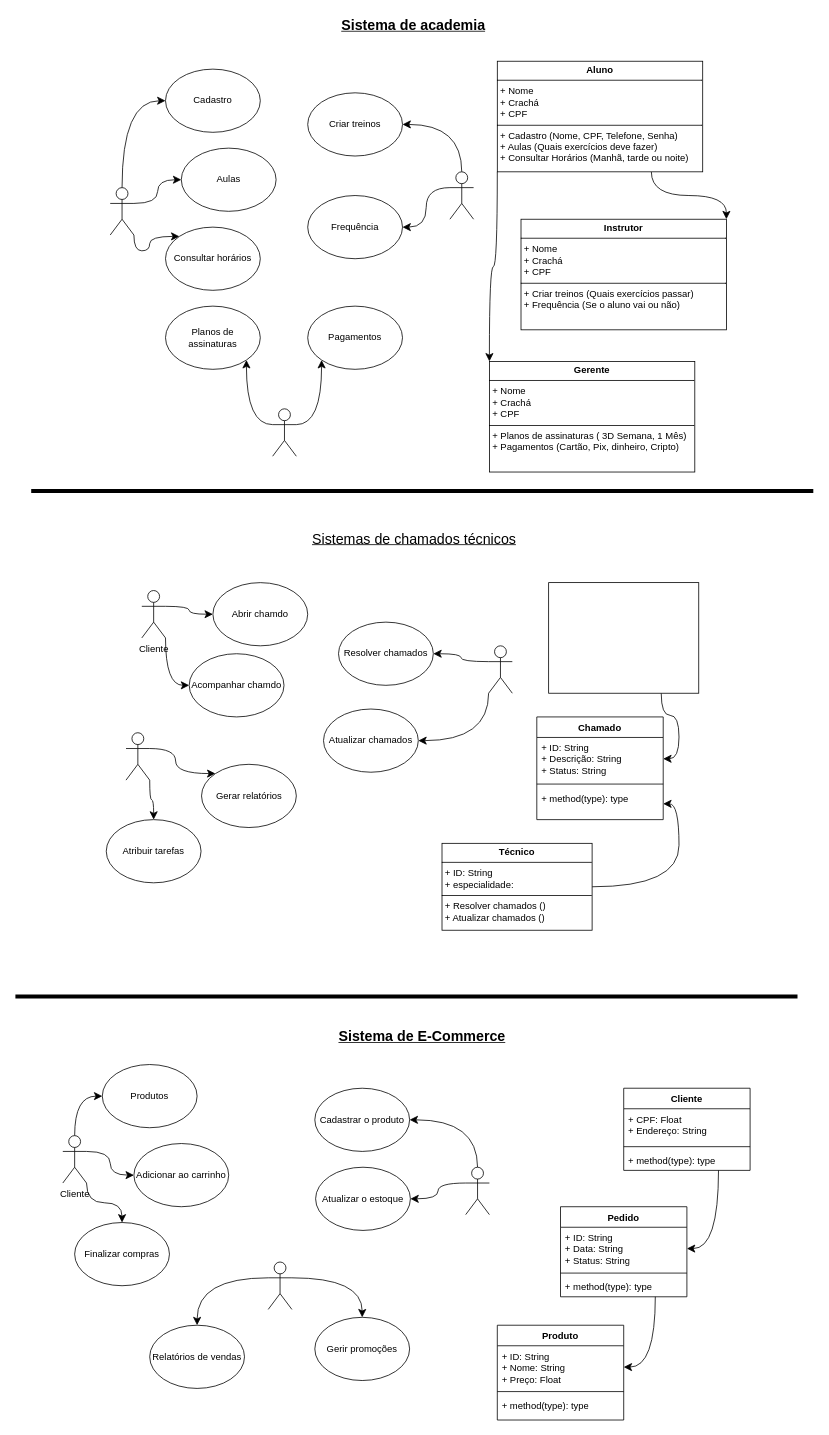
The diagram is 829 pixels wide and 1435 high, and some of its shapes have lost their labels. Here are the shapes that lost their labels. From the top down, the centre of each, then its label:
At point (121, 211): "Aluno".
At point (461, 195): "Instrutor".
At point (284, 432): "Gerente".
At point (623, 637): "Cliente + Nome: String + ID: String + Abrir chamado() + acompanhar chamado()".
At point (500, 669): "Técnico".
At point (137, 756): "Gestor".
At point (477, 1190): "Vendedor".
At point (279, 1285): "Administrador".
